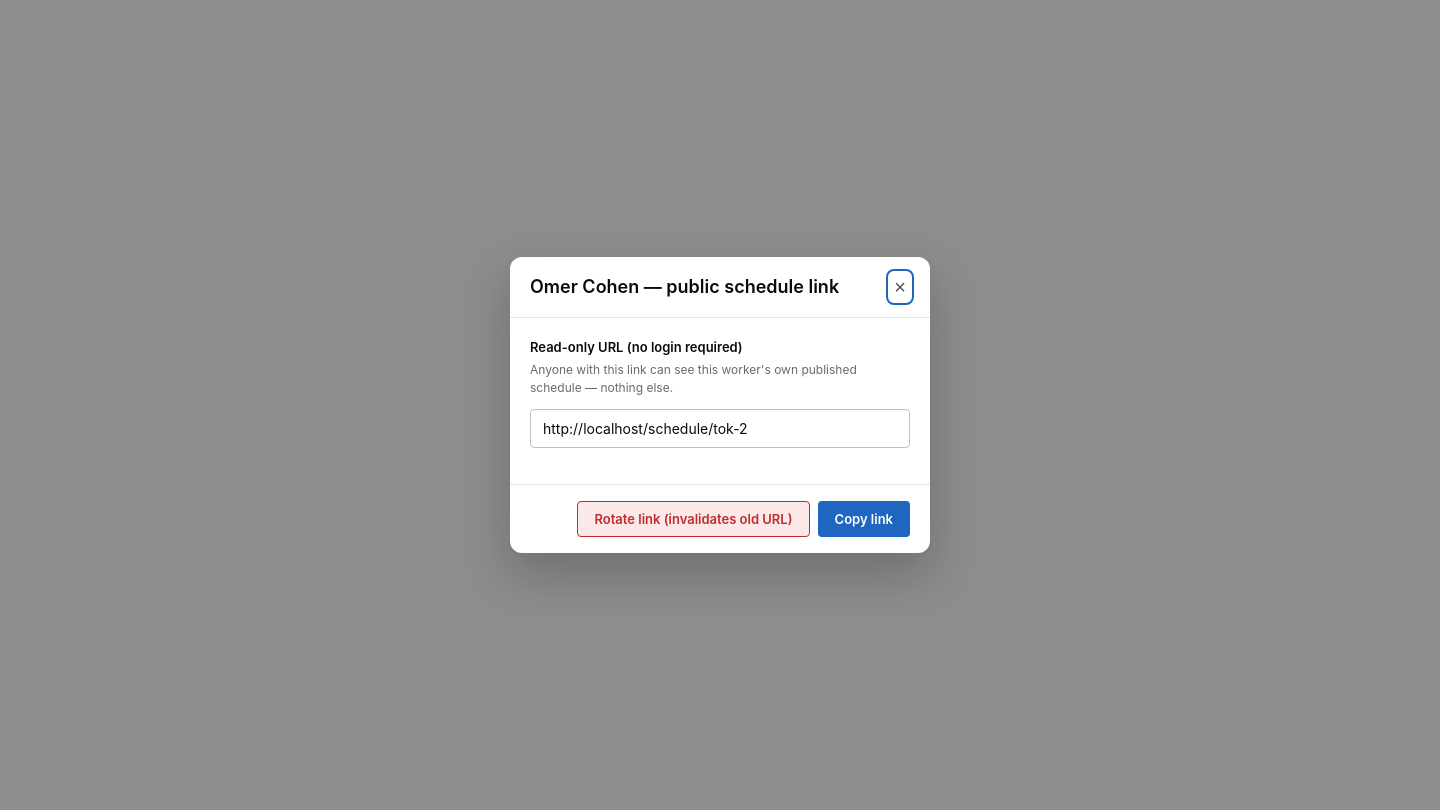
Test: ShareLinkModal › surfaces an error when rotating the link fails instead of failing silently
This screenshot has width=1440, height=810.
Click the button "Rotate link (invalidates old URL)".
click(694, 519)  # box [578,501,810,537]
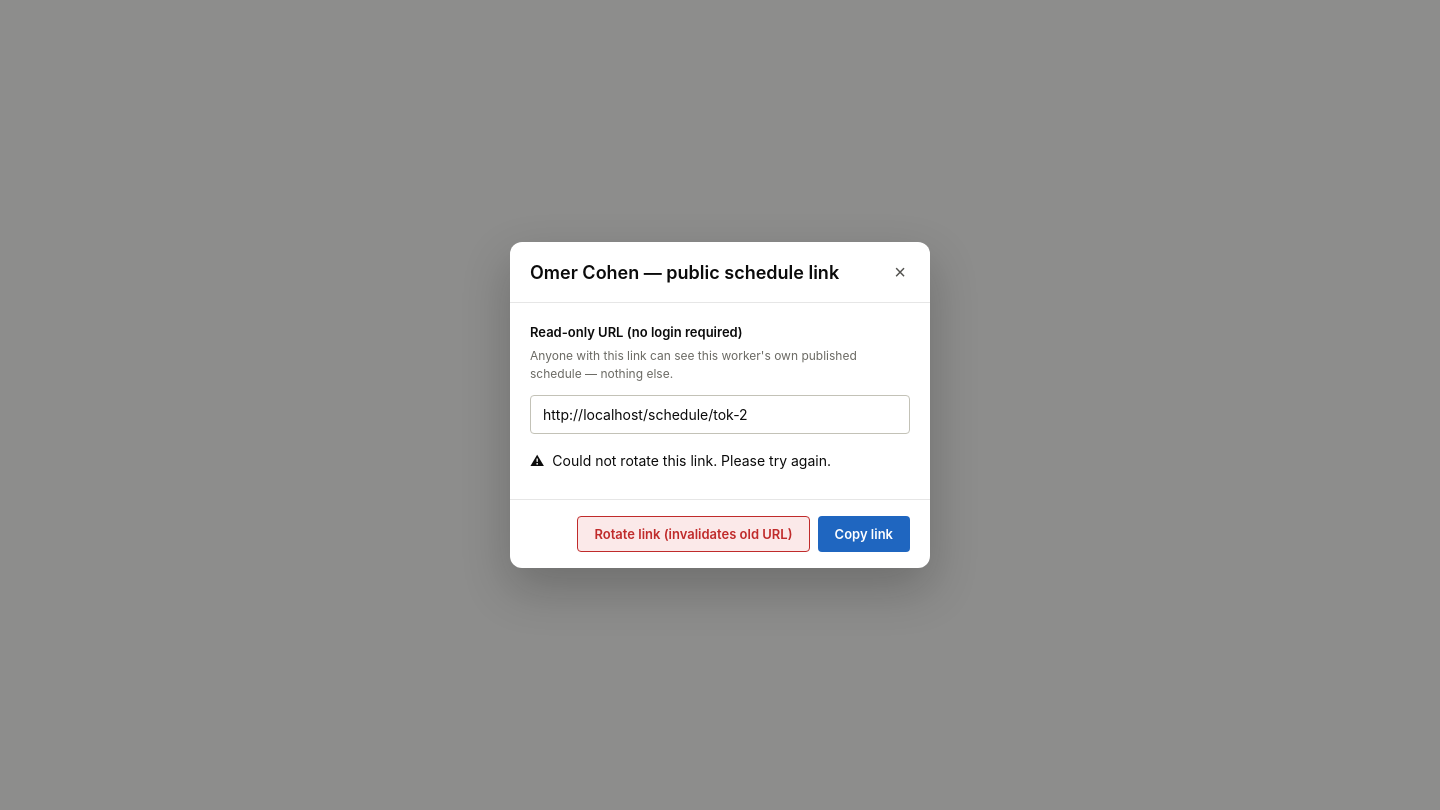
Expected: the dialog is shown, [510,242,930,568]
Result: the text "Could not rotate this link. Please try again." is shown at [552,450,831,471]
